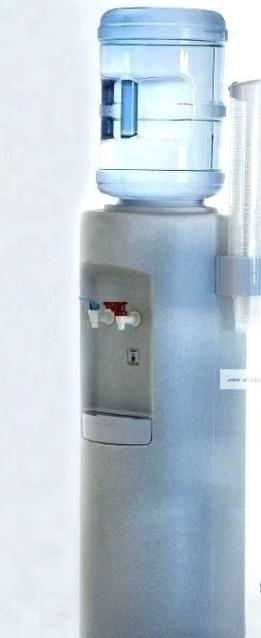Dispenser: (77, 6, 246, 637)
